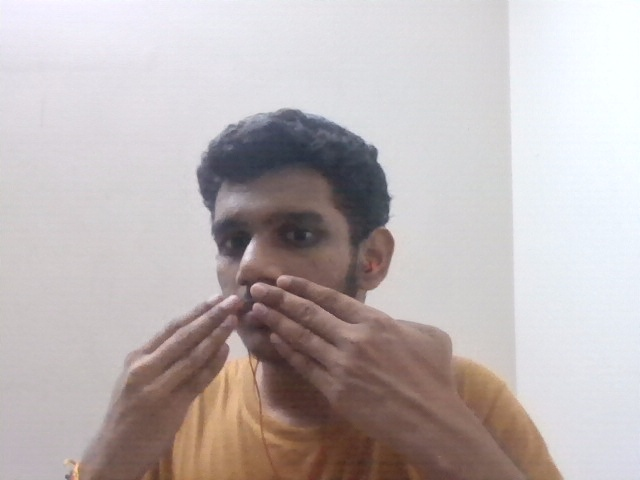thanks: (99, 276, 467, 441)
